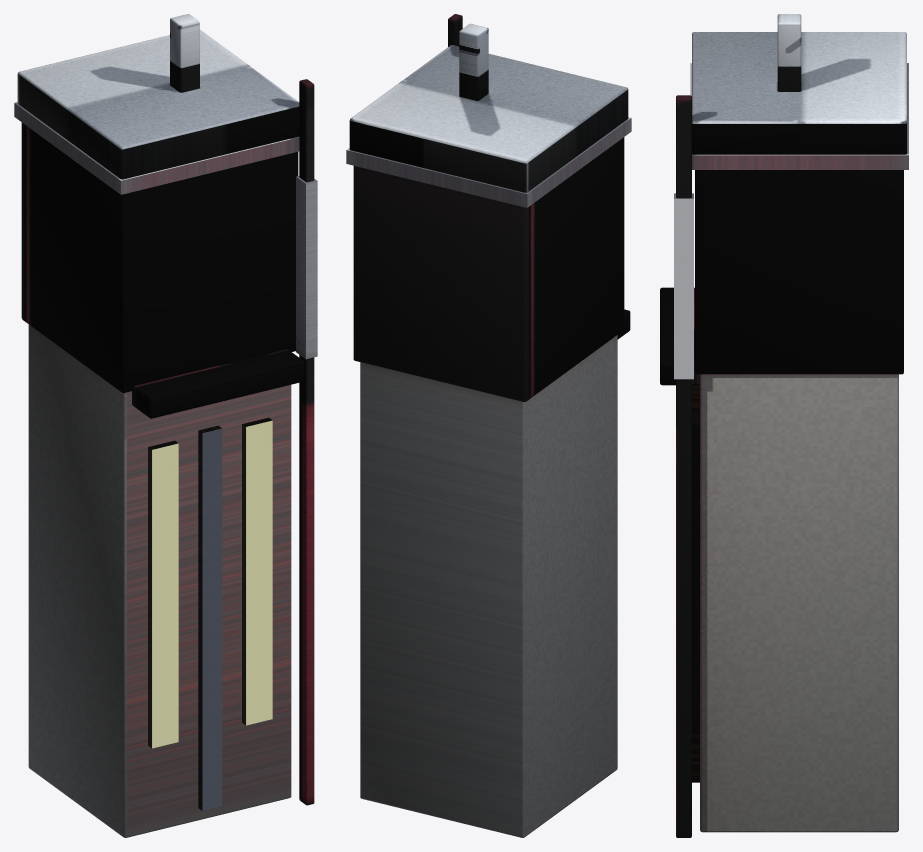
File: shop_magma.glb
The picture shows the model from 3 angles, left to right: view 1: azimuth 30°, elevation 25°; view 2: azimuth 150°, elevation 25°; view 3: azimuth 270°, elevation 25°; orthographic projection. The views are drawn at different scales.
Parts seen in each view (by area): view 1: body, band, parapet, door, winL, winR, pylon, canopy, roof, badge, ac; view 2: body, band, parapet, roof, ac; view 3: body, band, parapet, pylon, roof, badge, winR, ac, canopy, door.
Part boxes in pixels (left/top/right/bottom): body: left=28, top=324, right=291, bottom=837; band: left=21, top=122, right=298, bottom=392; parapet: left=17, top=30, right=299, bottom=179; door: left=198, top=425, right=222, bottom=810; winL: left=148, top=440, right=178, bottom=748; winR: left=242, top=417, right=272, bottom=725; pylon: left=299, top=79, right=314, bottom=805; canopy: left=132, top=349, right=304, bottom=418; roof: left=14, top=102, right=299, bottom=194; badge: left=296, top=176, right=317, bottom=359; ac: left=170, top=14, right=199, bottom=92; body: left=360, top=335, right=617, bottom=837; band: left=353, top=137, right=624, bottom=401; parapet: left=349, top=45, right=628, bottom=192; roof: left=346, top=117, right=631, bottom=207; ac: left=459, top=23, right=488, bottom=100; body: left=700, top=374, right=898, bottom=832; band: left=695, top=170, right=903, bottom=374; parapet: left=692, top=32, right=906, bottom=154; pylon: left=676, top=95, right=691, bottom=837; roof: left=690, top=63, right=908, bottom=169; badge: left=674, top=193, right=693, bottom=379; winR: left=692, top=411, right=699, bottom=731; ac: left=777, top=14, right=801, bottom=91; canopy: left=660, top=287, right=699, bottom=385; door: left=692, top=384, right=699, bottom=782.
Bounding box in the file's own units: 1.13 × 4.34 × 1.25.
7 materials, 7 textured.
